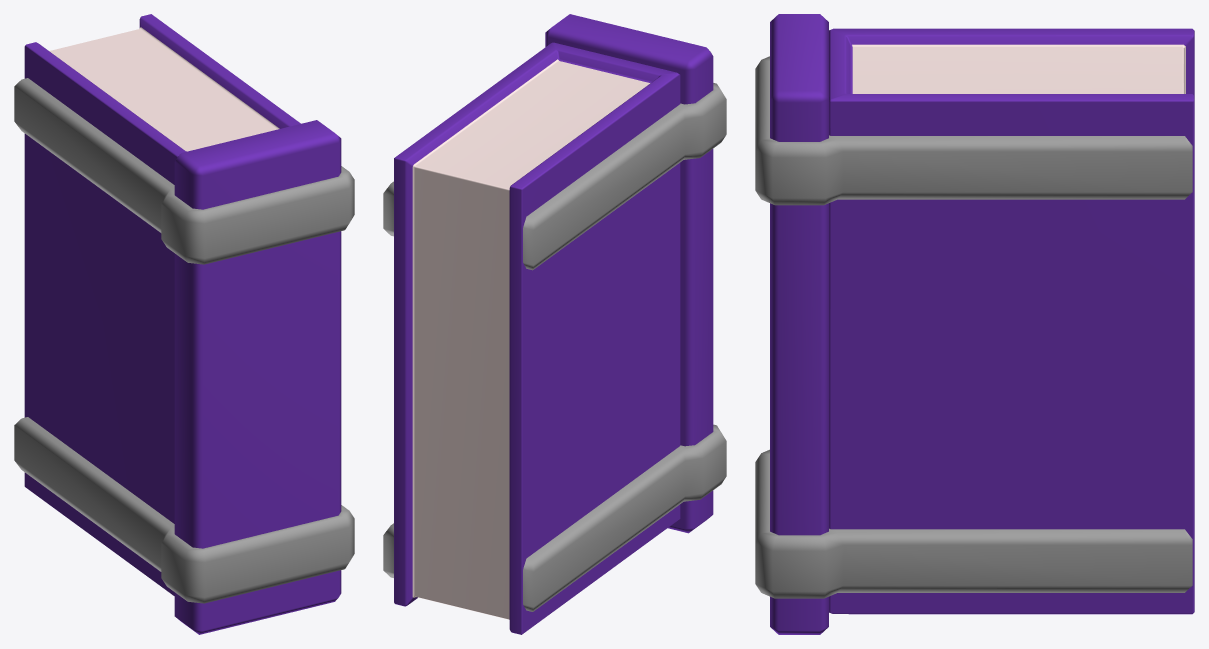
Rendered from Public_2_Book_3.glb.
3 views of the same model, side by side, from view 1: azimuth 30°, elevation 25°; view 2: azimuth 150°, elevation 25°; view 3: azimuth 270°, elevation 25° (orthographic). The views are drawn at different scales.
Parts seen in each view (by area): view 1: Public_2_Book_3; view 2: Public_2_Book_3; view 3: Public_2_Book_3.
Part boxes in pixels (x1,y1,x2,y2): Public_2_Book_3: (14, 14, 354, 634); Public_2_Book_3: (383, 14, 726, 634); Public_2_Book_3: (755, 14, 1194, 634).
Size of the model in its own units: 0.7465 by 1.96 by 1.44.
1 material, 1 textured.
